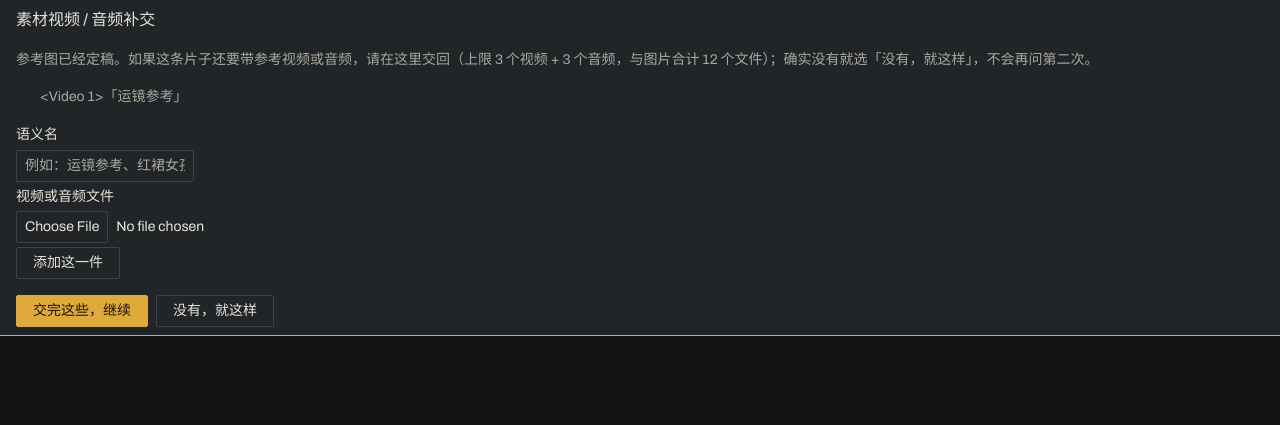
it: AssetExtraCard 决议 › 容量超限时把服务端点名的那一档原样展示
The width and height of the screenshot is (1280, 425).
Click the button "交完这些，继续". click: click(82, 311)
box: [16,295,148,327]
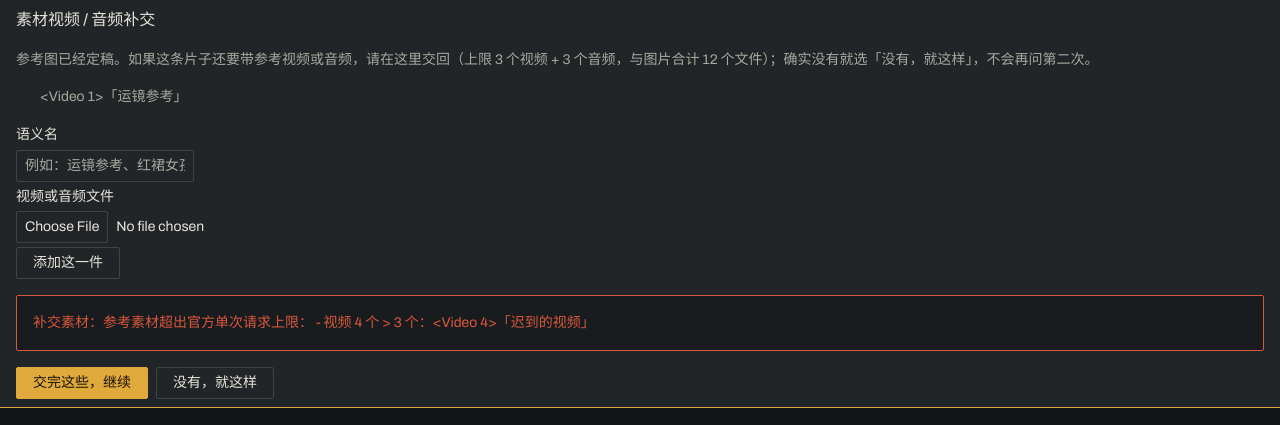
Expected: the text "视频 4 个 > 3 个" is shown, [33,315,595,330]
